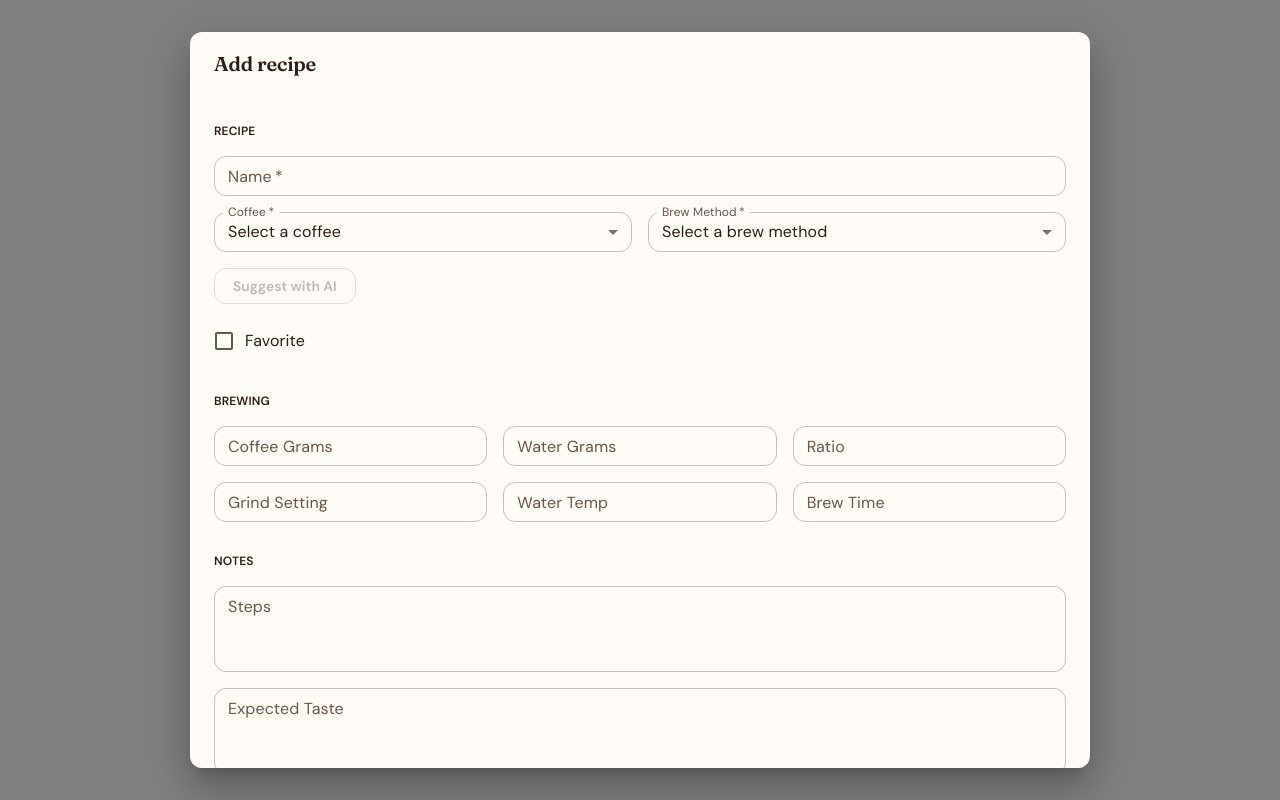
it: RecipeFormDialog › maps a server 400 validation error onto the field
Select "Mezcla" in the dropdown labelled "Coffee *" at (423, 232), box [214,212,632,252]
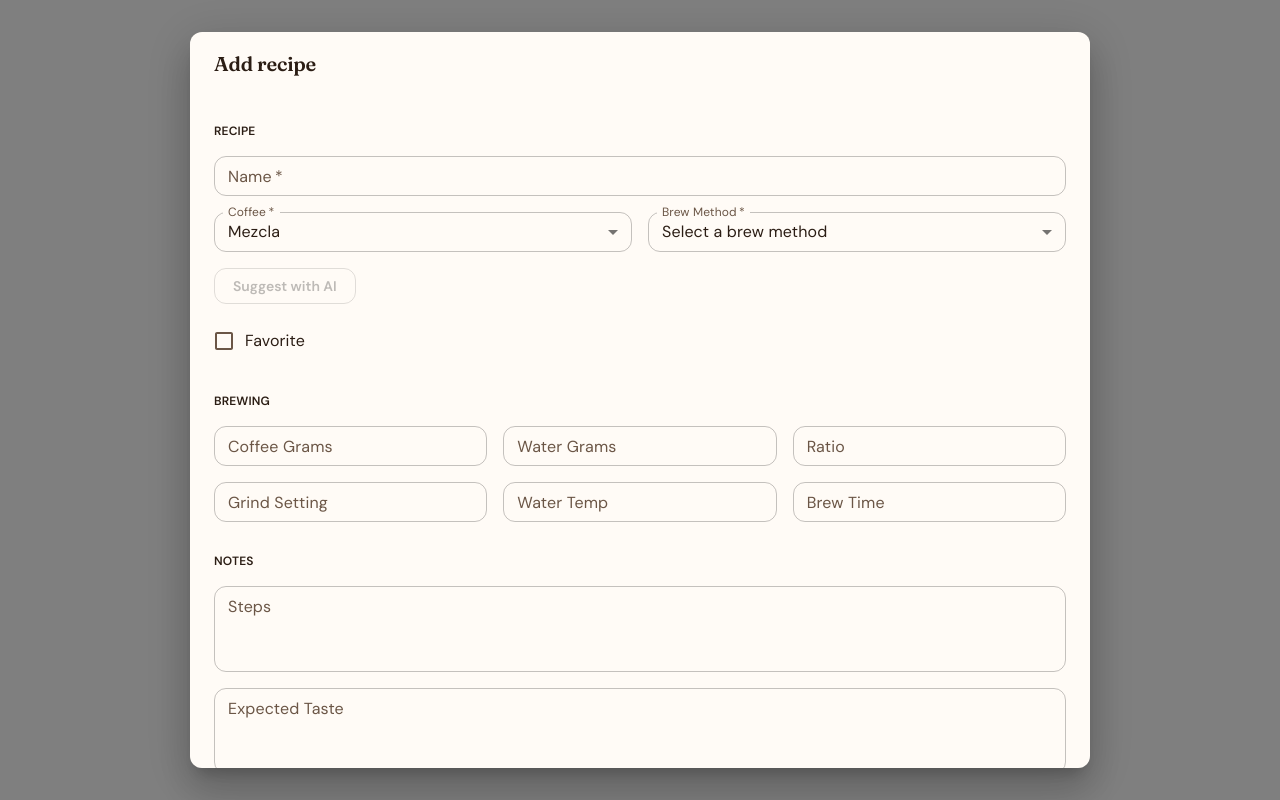
Select "AeroPress" in the dropdown labelled "Brew Method *" at (857, 232), box [648,212,1066,252]
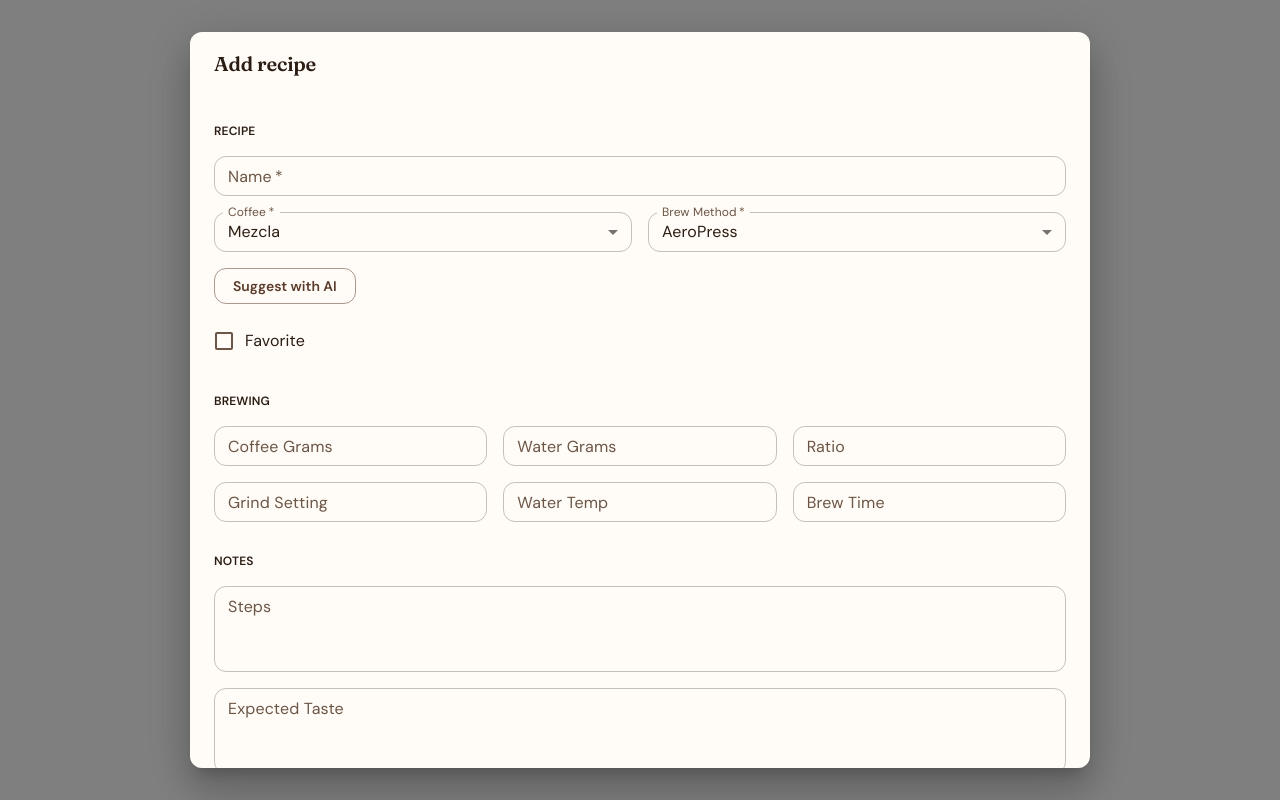
Type "X" into the field labelled "Name *" at (640, 176), box [214,156,1066,196]
(page scrolled)
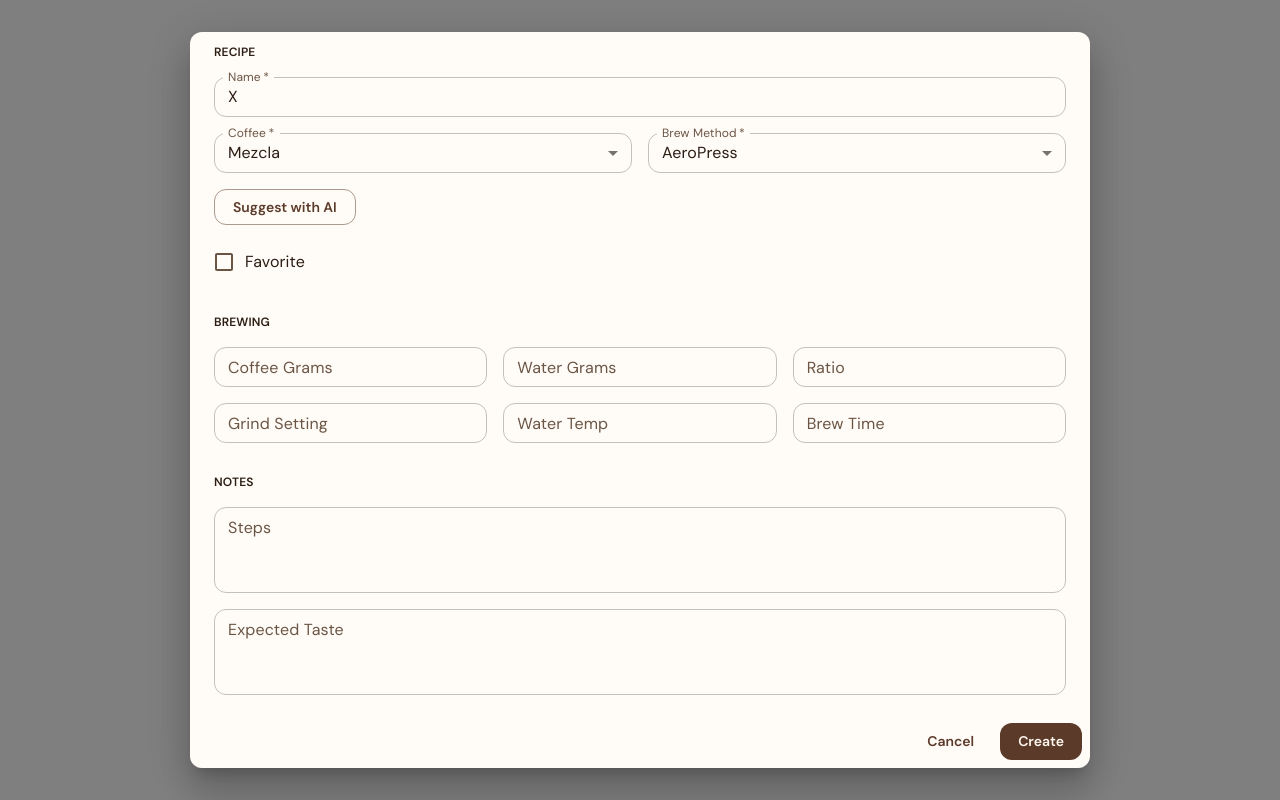
Click the button "Create" at (1041, 741), box [1000,723,1082,760]
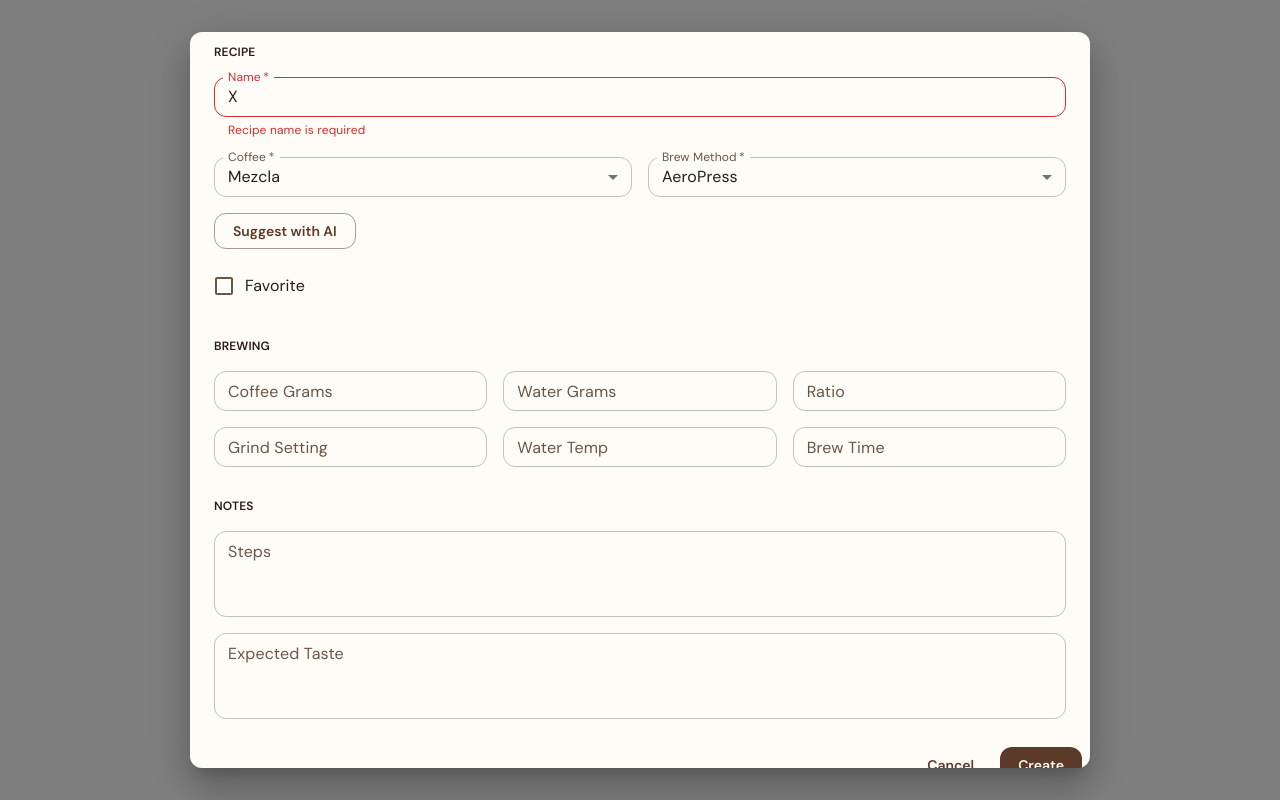
Check: the text "Recipe name is required" is shown, box [228,122,365,138]
